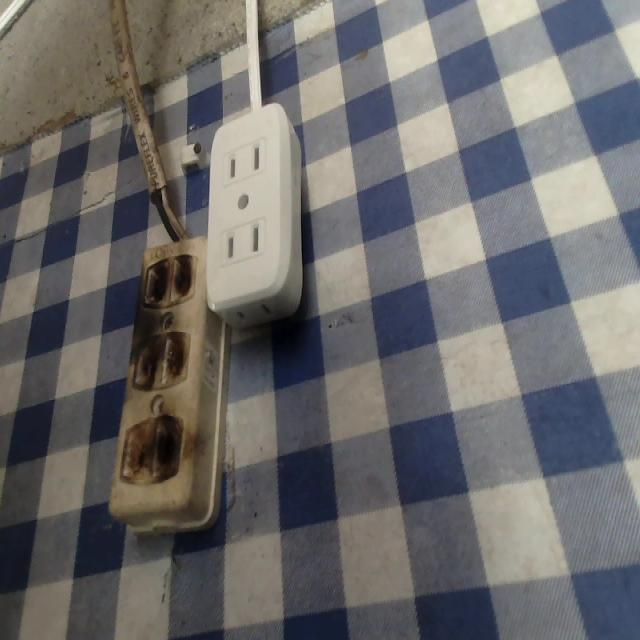-: (121, 413, 186, 491), (125, 330, 199, 398), (137, 248, 198, 309)
